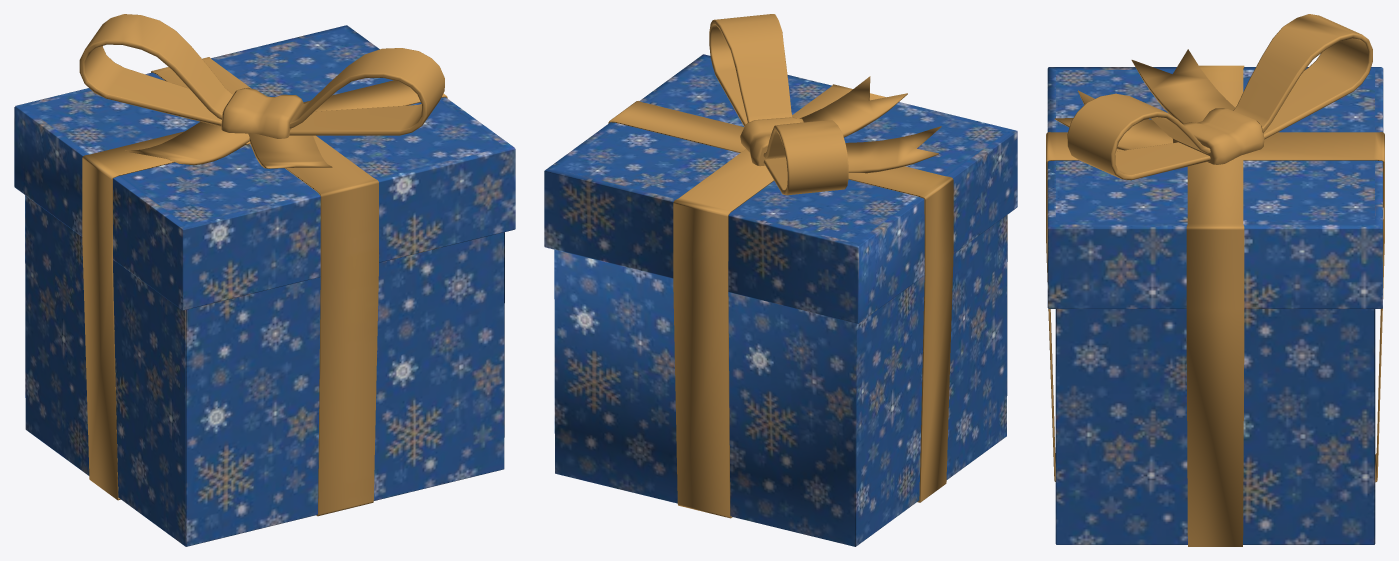
The model's file is gift-box.glb.
The picture shows the model from 3 angles, left to right: view 1: azimuth 30°, elevation 25°; view 2: azimuth 150°, elevation 25°; view 3: azimuth 270°, elevation 25°; orthographic projection. The views are drawn at different scales.
Parts seen in each view (by area): view 1: Box_giftbox_0; view 2: Box_giftbox_0; view 3: Box_giftbox_0.
Part boxes in pixels (<box>): Box_giftbox_0: <box>14,14,515,546</box>; Box_giftbox_0: <box>544,14,1017,546</box>; Box_giftbox_0: <box>1046,14,1384,546</box>.
Bounding box in the file's own units: 0.171 × 0.197 × 0.1503.
1 material, 1 textured.
